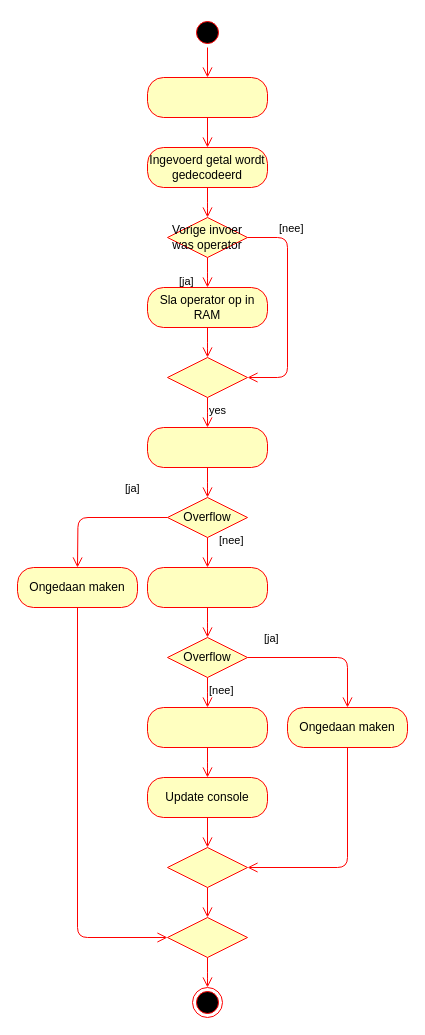
Image size: 425x1035. Some labels were removed from this diagram. Here are the shapes that lost their labels. From the top down, the centre of each, then its label:
At (207,97): "Basis getal is 0".
At (207,447): "Basis getal * 10".
At (207,587): "Tel invoer erbij op".
At (207,727): "Sla het nieuwe basisgetal op in registers R14 R15".
